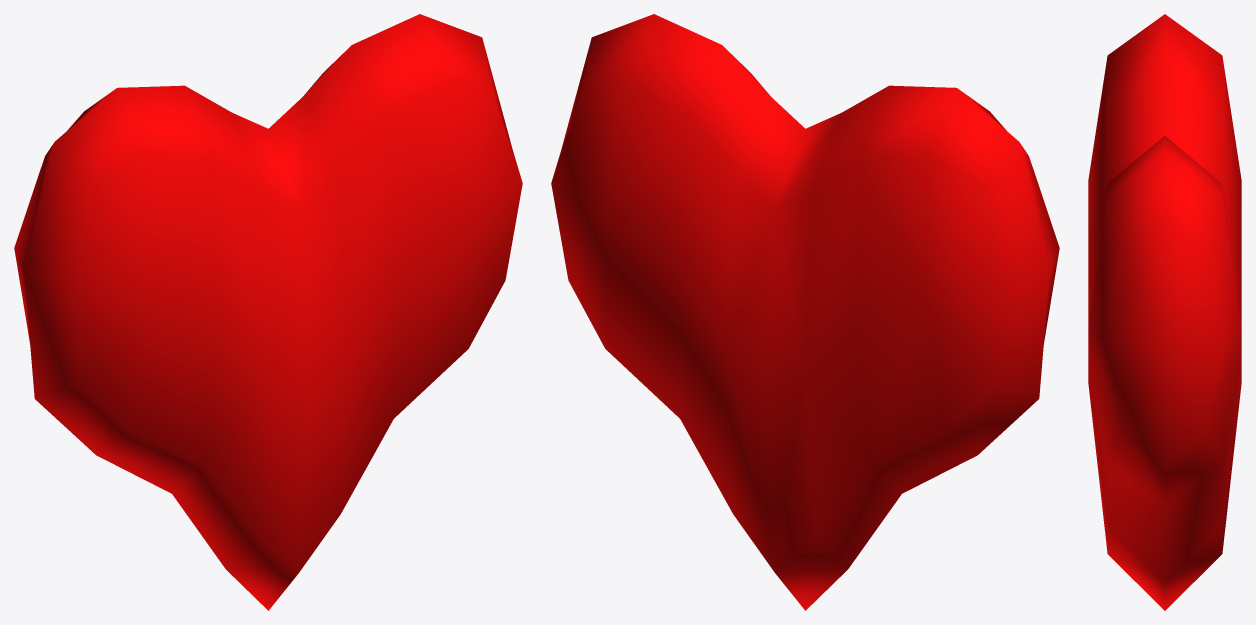
File: heart_001.fbx
3 renders of one model, left to right at view 1: azimuth 30°, elevation 25°; view 2: azimuth 150°, elevation 25°; view 3: azimuth 270°, elevation 25°, orthographic. The views are drawn at different scales.
Parts seen in each view (by area): view 1: heart_001; view 2: heart_001; view 3: heart_001.
Boxes of the visible parts, x1,y1,x2,y2 form: heart_001: (14, 14, 522, 610); heart_001: (551, 14, 1059, 610); heart_001: (1088, 14, 1241, 610).
Size of the model in its own units: 2.13 by 2.33 by 0.6132.
